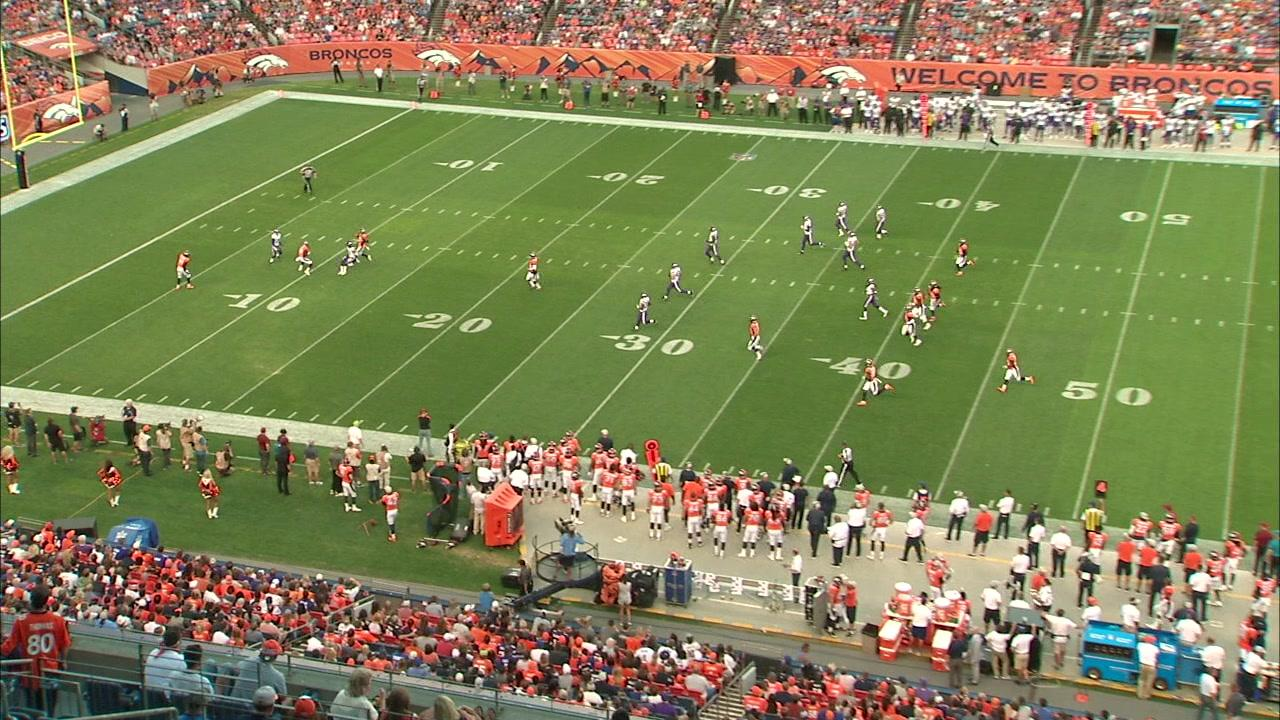number: (1060, 377, 1155, 409), (829, 352, 912, 381), (612, 330, 699, 357), (411, 310, 495, 334), (229, 292, 302, 314), (1118, 209, 1193, 227), (933, 196, 1001, 213), (601, 171, 665, 186), (763, 184, 827, 199), (449, 159, 505, 171)
